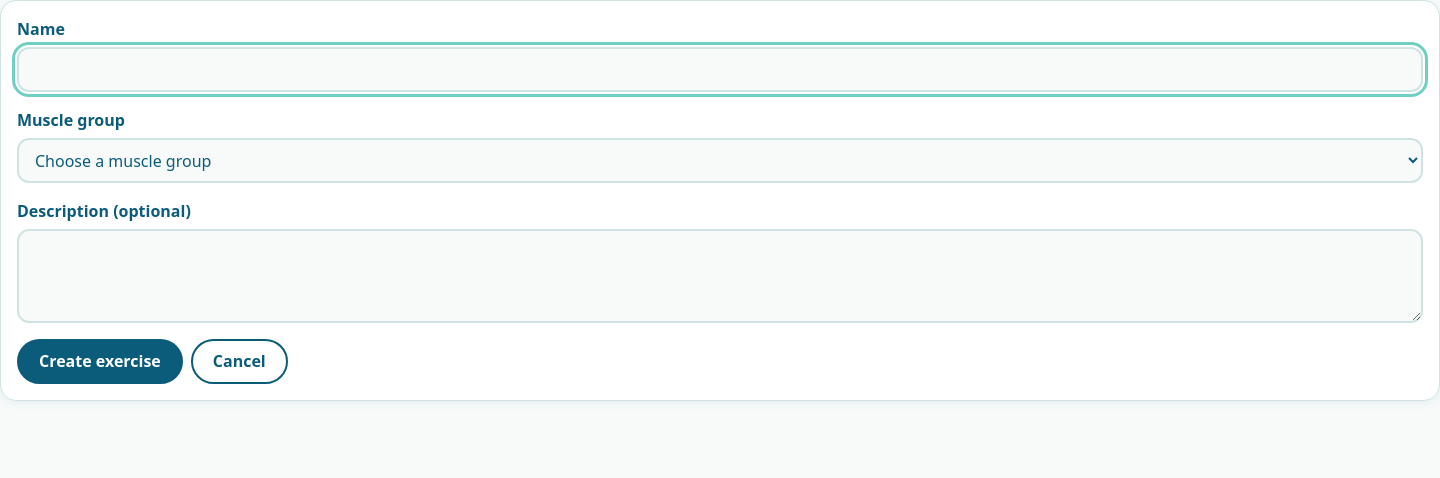
Test: ExerciseForm › shows validation errors and does not submit when the form is empty
Click the button "Create exercise" at x=100, y=361, box x1=17 y1=339 x2=183 y2=384
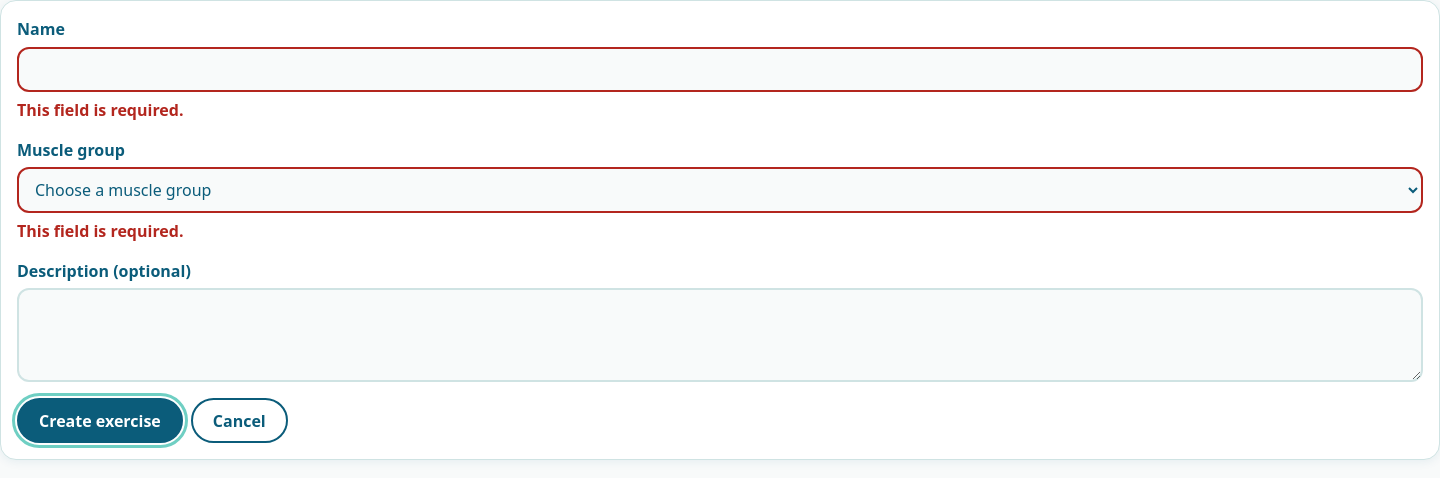
Now the text "This field is required." is shown 2 times, box x1=17 y1=99 x2=184 y2=121; x1=17 y1=220 x2=184 y2=242
